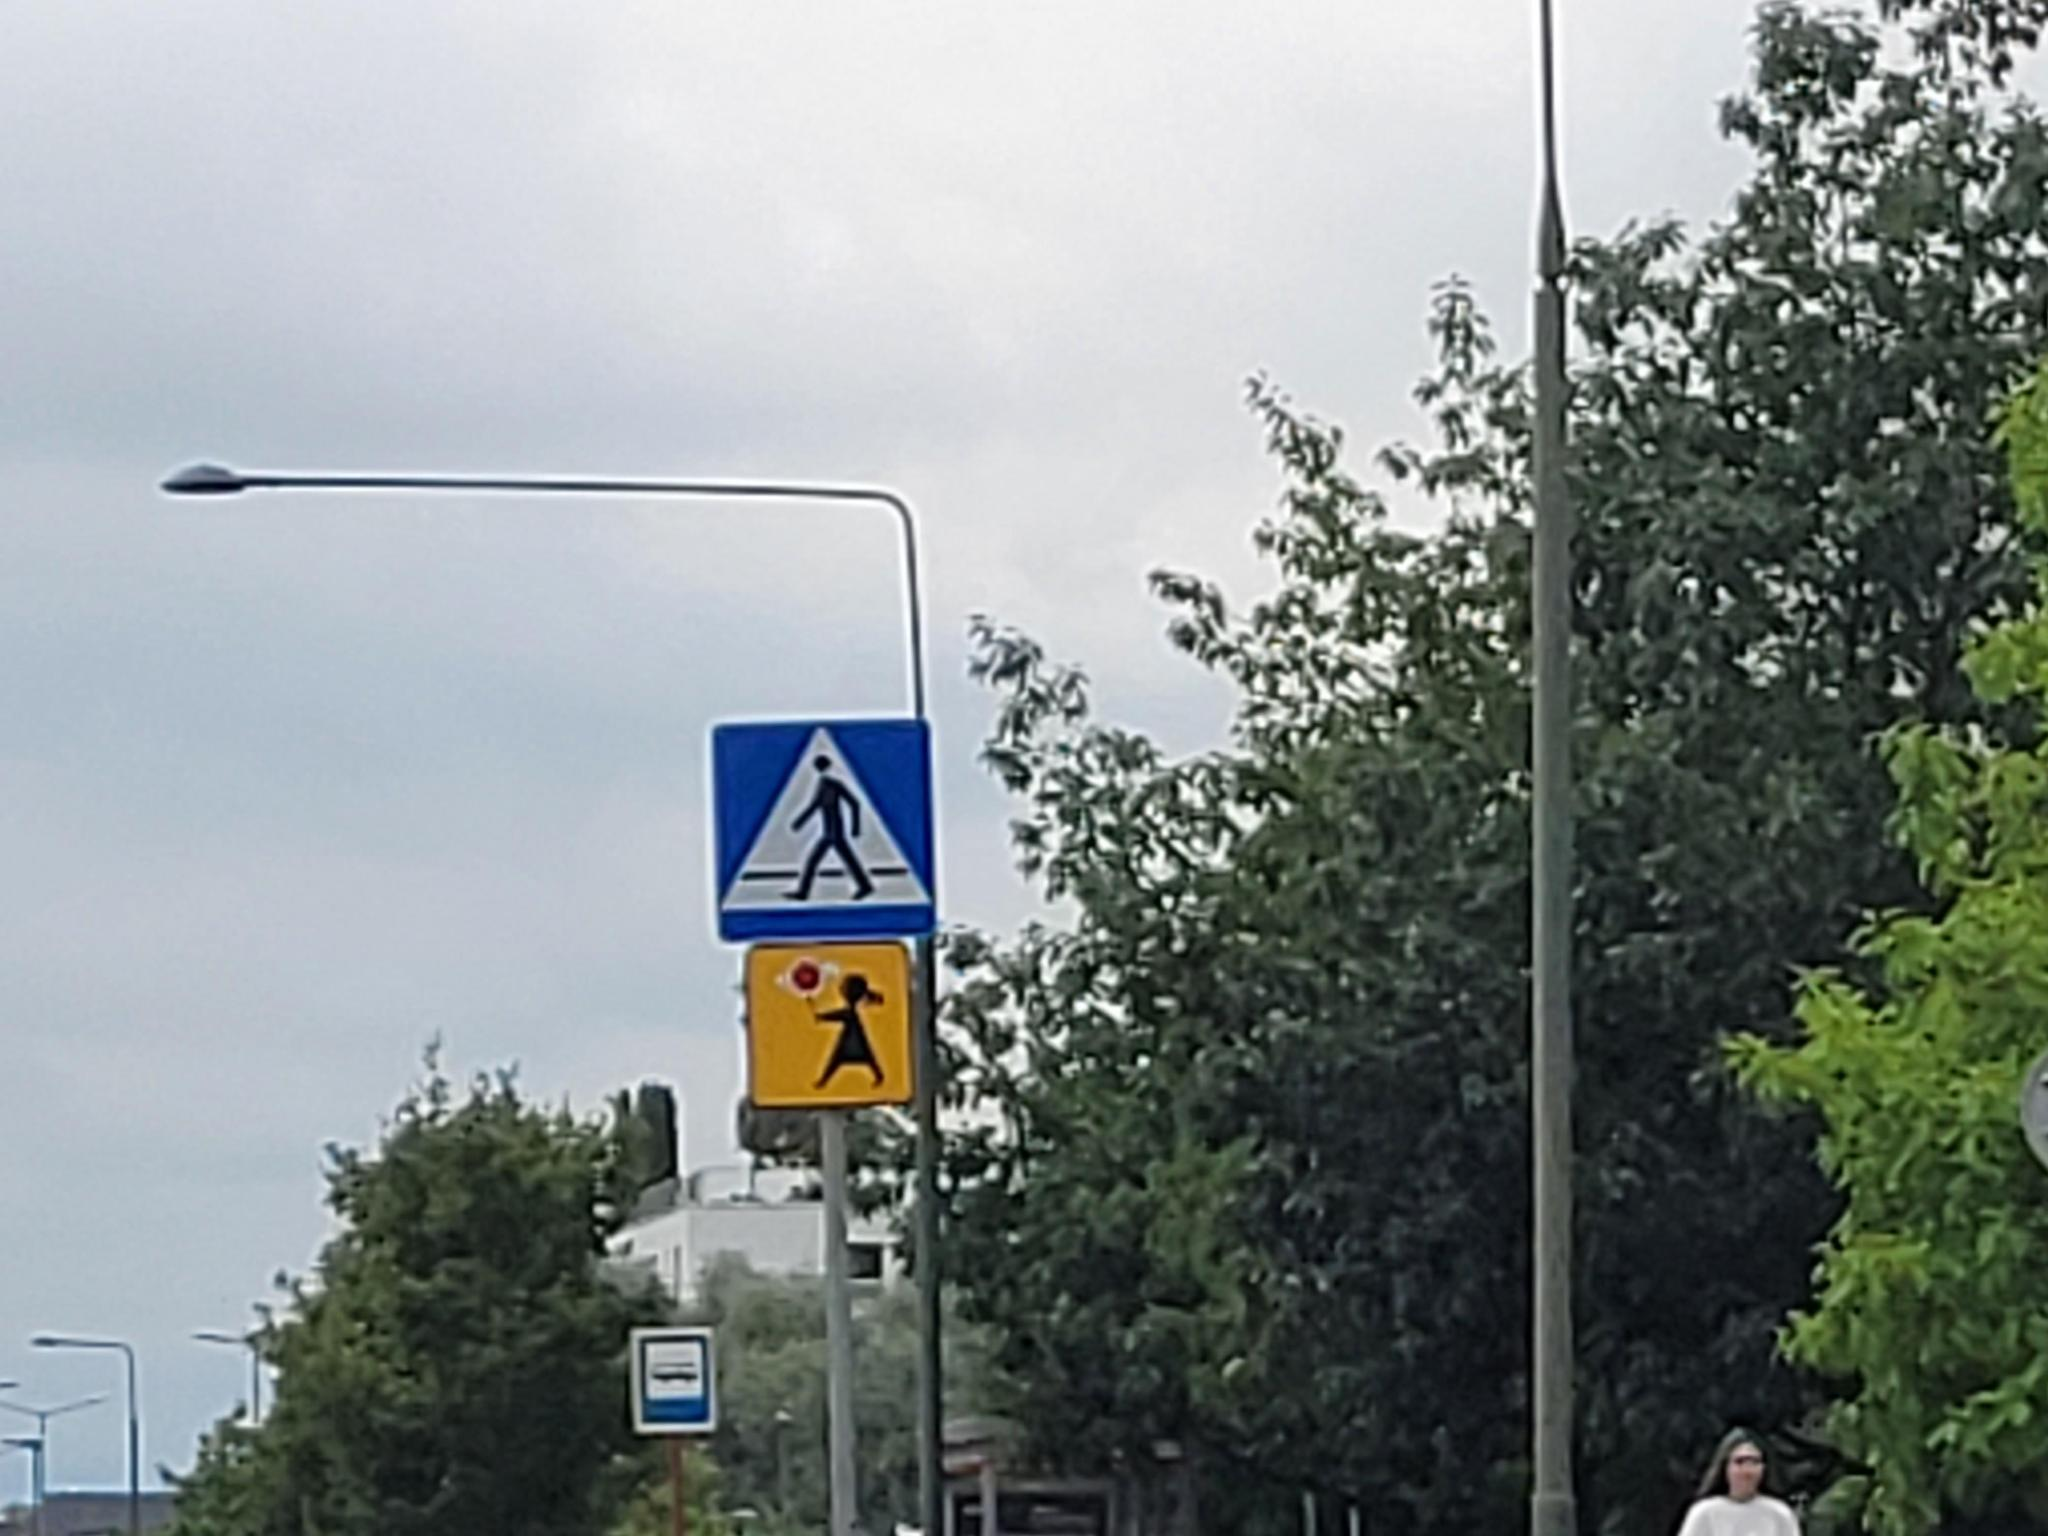information: (708, 716, 940, 947)
other: (743, 942, 914, 1110)
